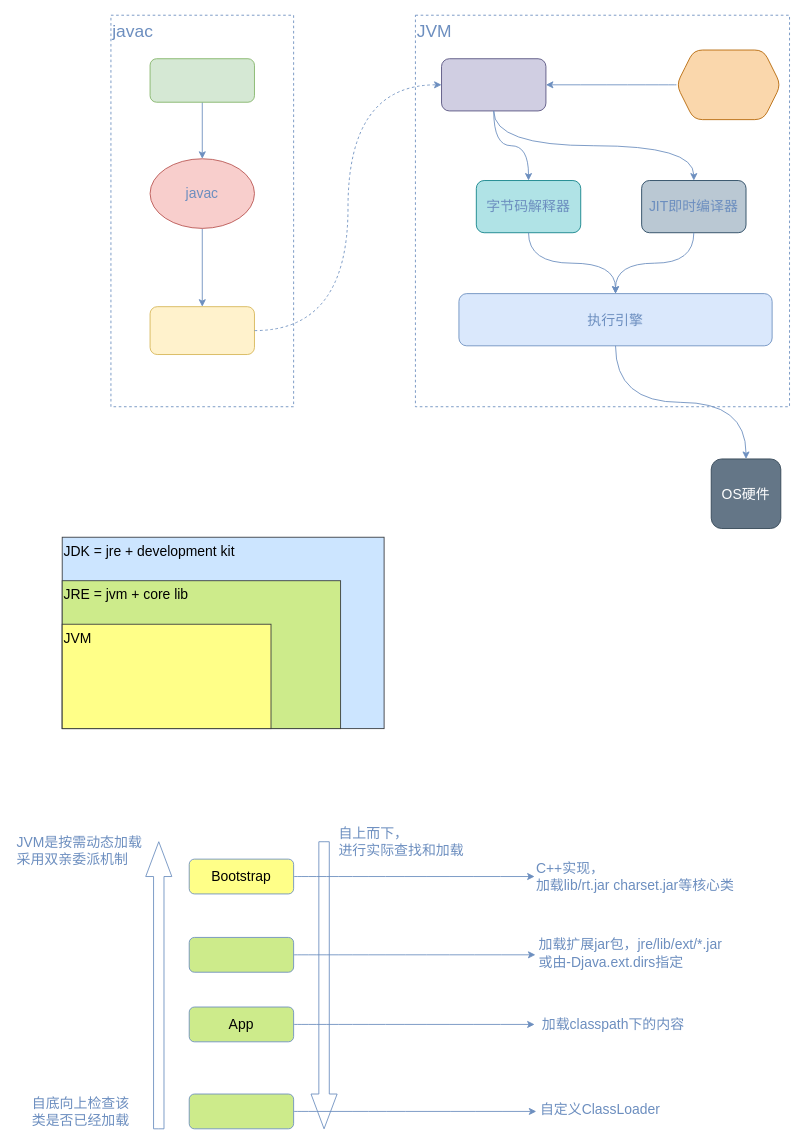
The diagram is 805 pixels wide and 1144 high, and some of its shapes have lost their labels. The centre of each missing label's shape, as x and y in pixels:
ClassLoader: pixel 493 84
Custom ClassLoader: pixel 241 1111
Ext: pixel 241 954
java类库: pixel 728 84
X.class: pixel 201 330
X.java: pixel 201 80
